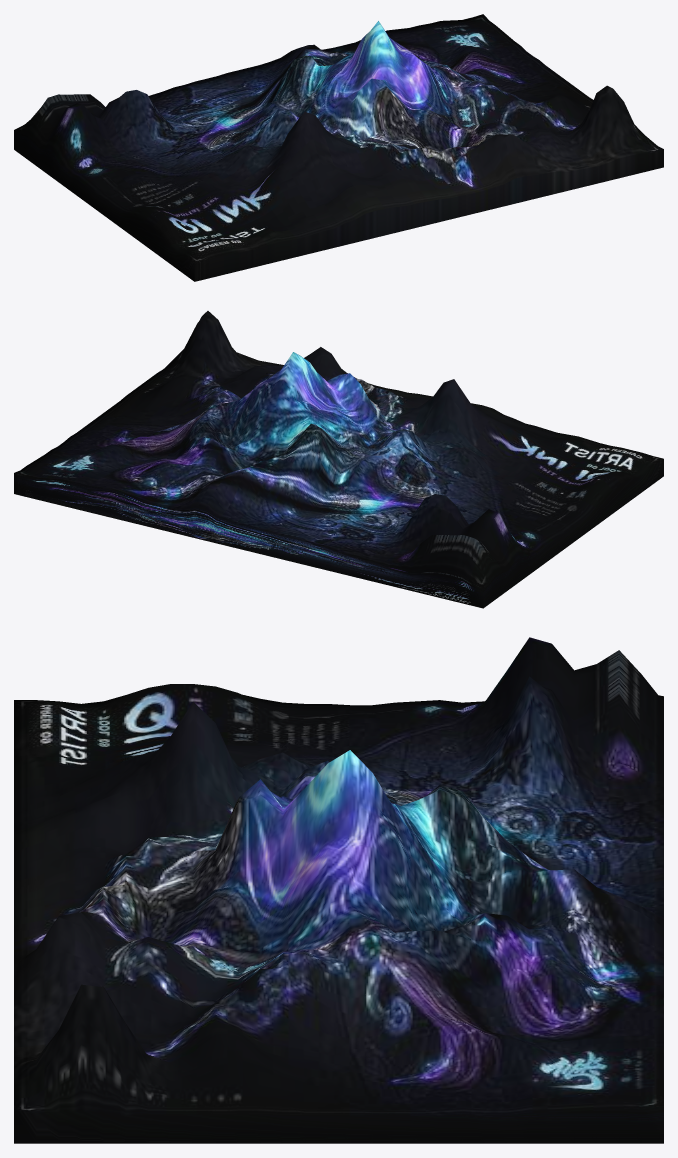
File: CAREER_09_Tool_08_Qi_Ink.glb
3 renders of one model, top to bottom at view 1: azimuth 30°, elevation 25°; view 2: azimuth 150°, elevation 25°; view 3: azimuth 270°, elevation 25°, orthographic. The views are drawn at different scales.
Visible parts, largest first — view 1: CAREER_09_Tool_08_Qi_Ink; view 2: CAREER_09_Tool_08_Qi_Ink; view 3: CAREER_09_Tool_08_Qi_Ink.
Part boxes in pixels (<box>): CAREER_09_Tool_08_Qi_Ink: <box>14,14,663,281</box>; CAREER_09_Tool_08_Qi_Ink: <box>14,311,663,608</box>; CAREER_09_Tool_08_Qi_Ink: <box>14,637,663,1143</box>.
Size of the model in its own units: 2 by 0.51 by 1.33.
Materials: 1 (1 with a texture image).
